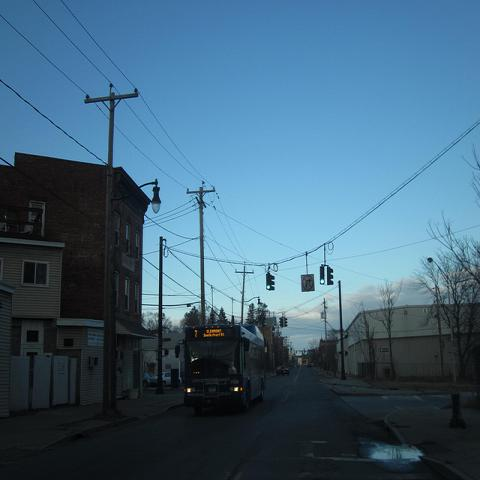bus: (184, 323, 265, 413)
car: (153, 372, 183, 387), (142, 372, 158, 387), (276, 366, 290, 376), (296, 364, 300, 368)
